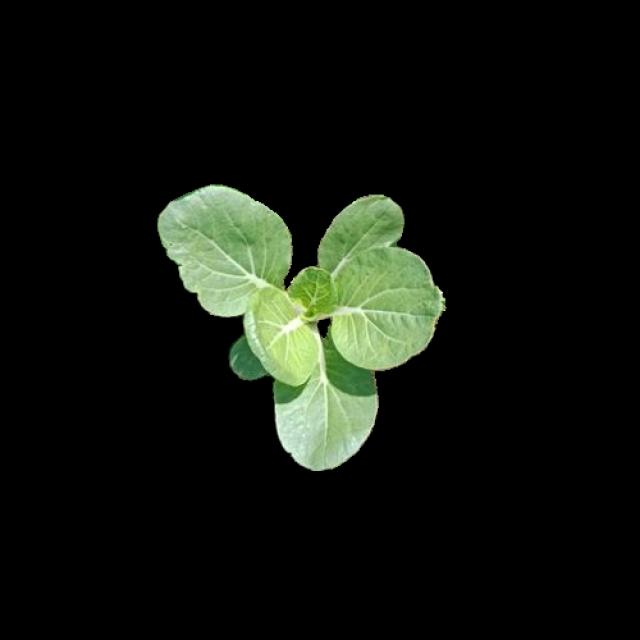healthy: (159, 187, 444, 465)
not-mature: (160, 184, 445, 462)
